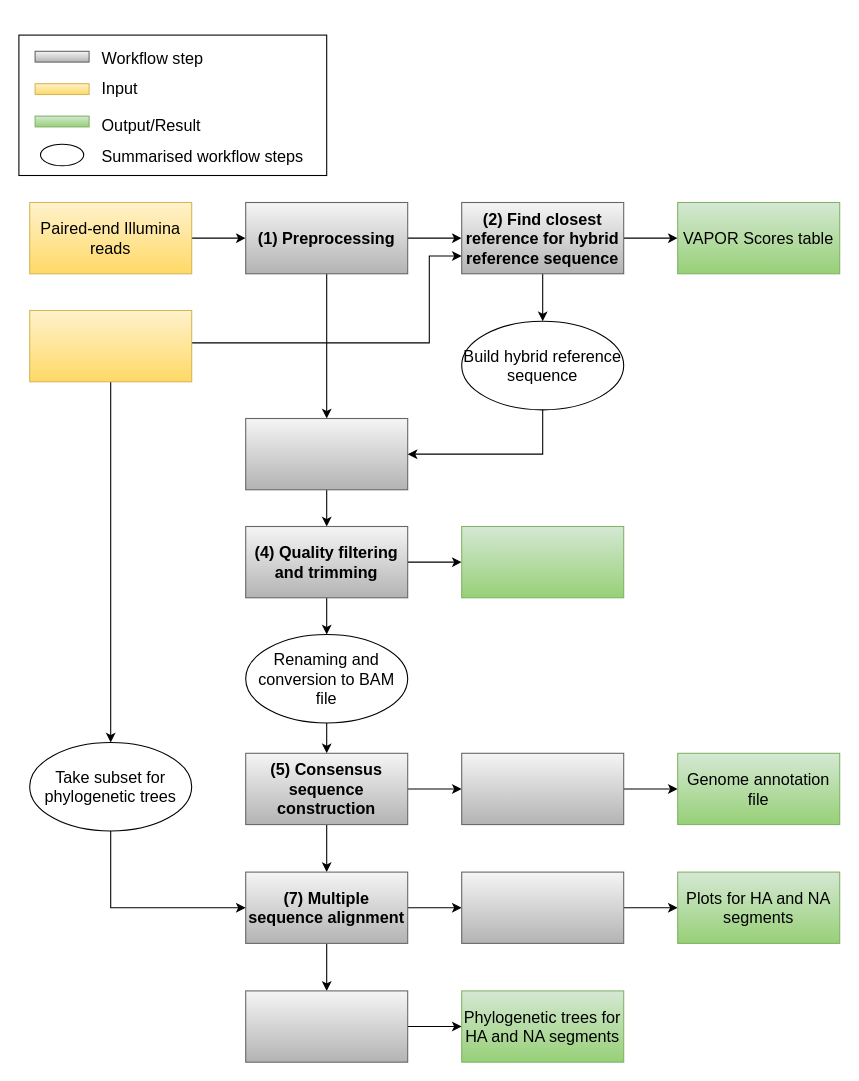
The diagram is 859 pixels wide and 1081 high, and some of its shapes have lost their labels. Each missing label, with the centre of its shape:
"(3) Mapping" goes at point 326,453.
"(6) Genome annotation" goes at point 542,788.
"(8) Summarise SNPs" goes at point 542,907.
"(9) Phylogenetic tree construction" goes at point 326,1026.
"Quality and coverage report of alignment" goes at point 542,561.
"Reference Sequence Database" goes at point 110,345.
